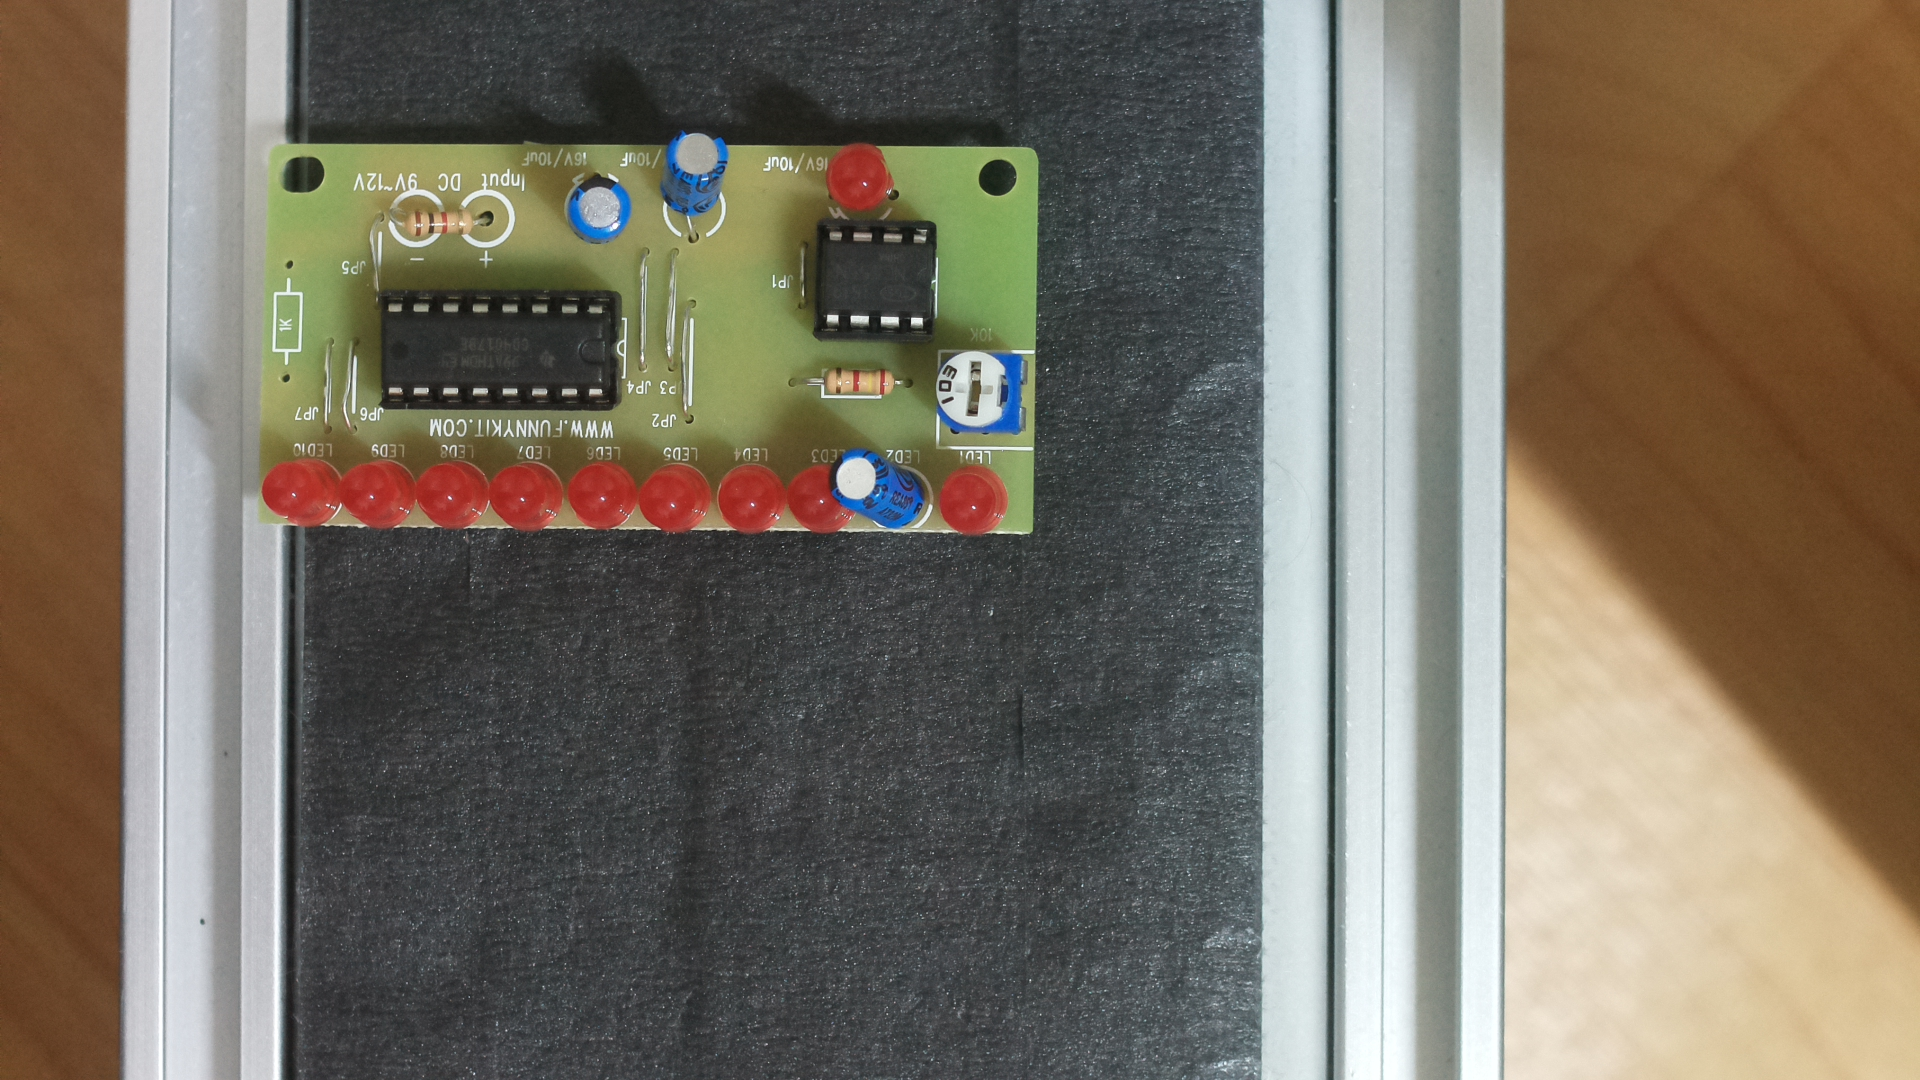B_Misordered: (225, 119, 1065, 554)
